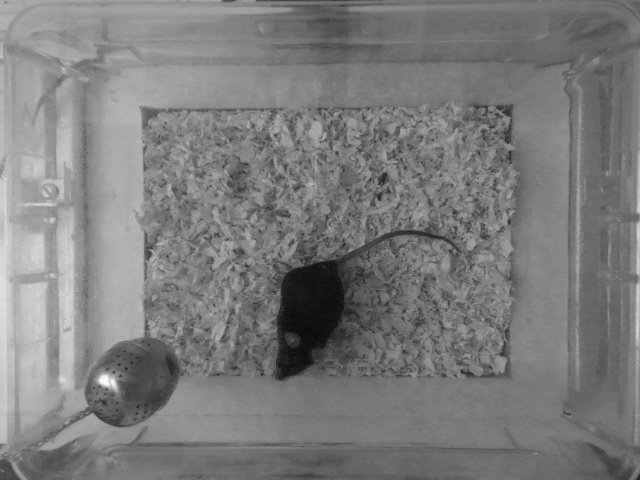mice: (264, 230, 463, 382)
